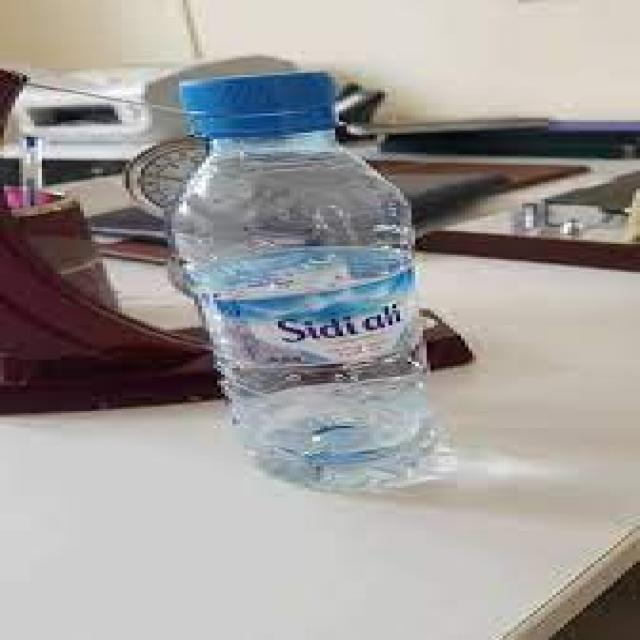Flask: (149, 75, 489, 498)
